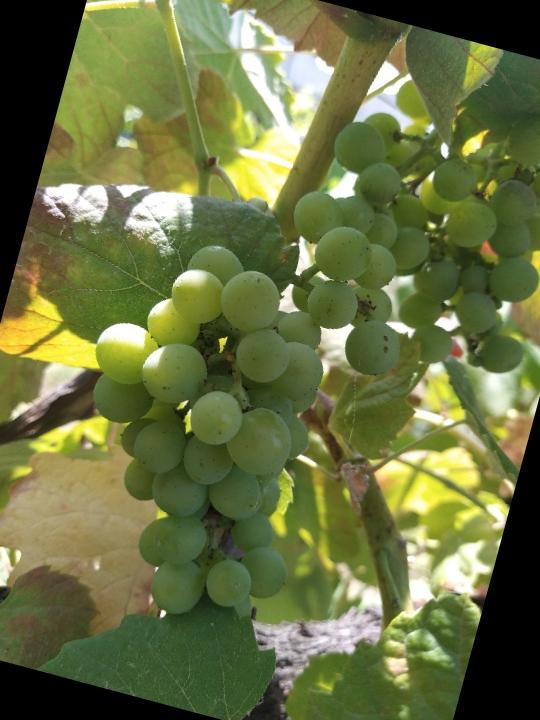grape: (32, 220, 366, 642), (256, 97, 509, 400)
